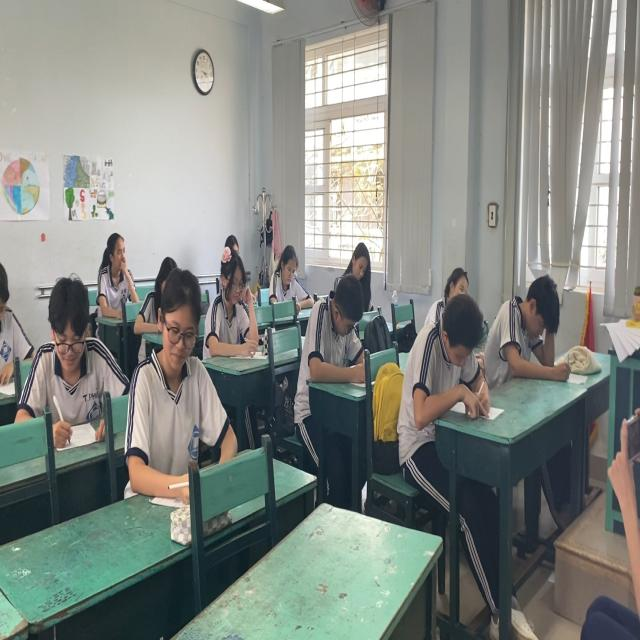not_cheating: (133, 264, 222, 461), (28, 274, 114, 434), (403, 290, 496, 418), (500, 269, 572, 379), (298, 276, 368, 379), (207, 240, 263, 362), (87, 224, 139, 320), (265, 240, 305, 294), (443, 260, 472, 306), (348, 243, 374, 283)
